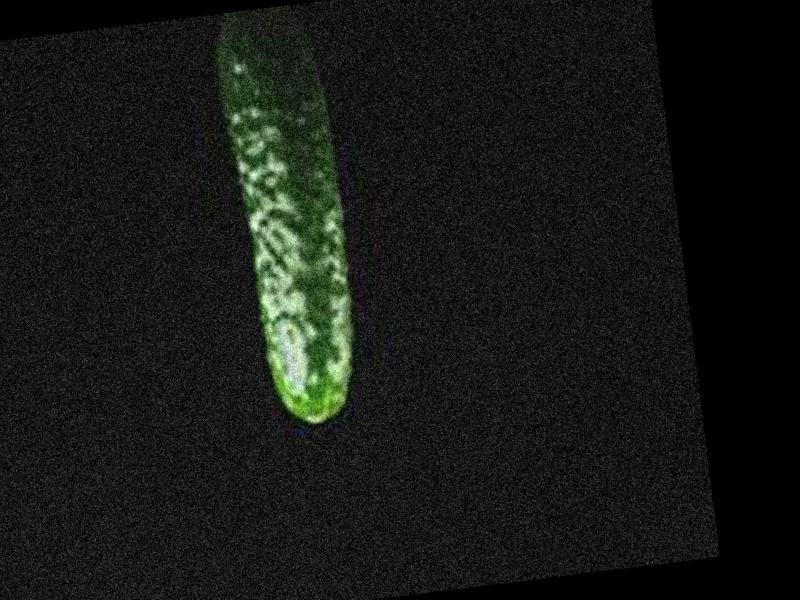Cucumber: (208, 1, 369, 432)
